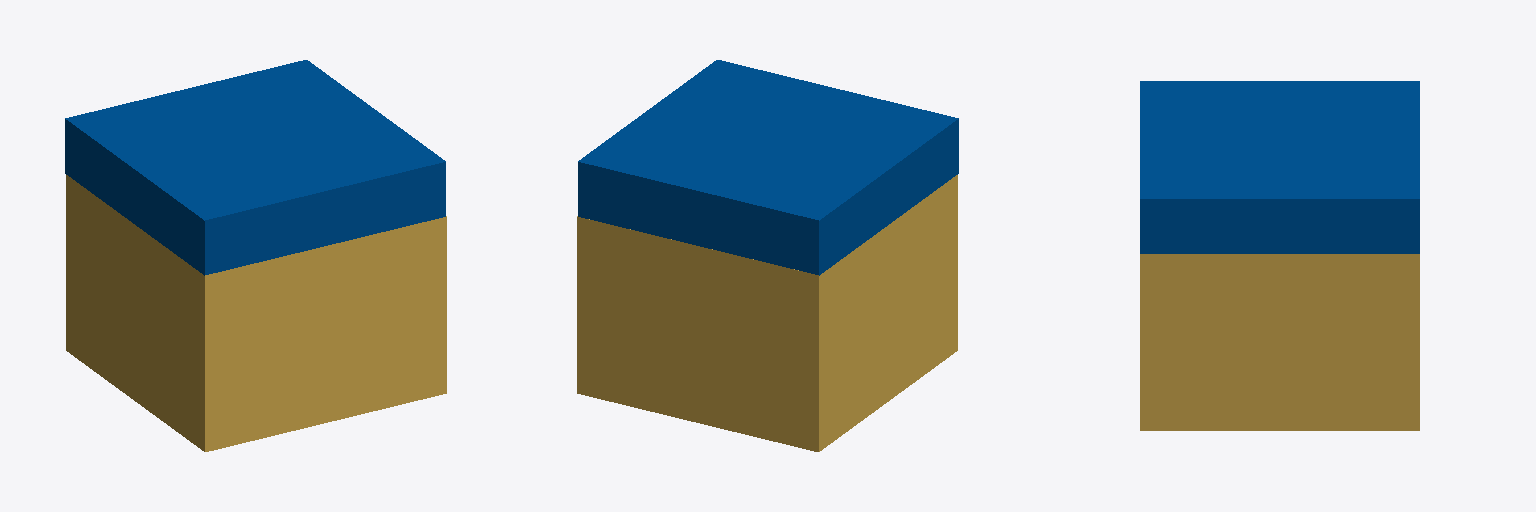
Rendered from water.065725eb.obj.
3 renders of one model, left to right at view 1: azimuth 30°, elevation 25°; view 2: azimuth 150°, elevation 25°; view 3: azimuth 270°, elevation 25°, orthographic.
Parts seen in each view (by area): view 1: Water_Cube.002; view 2: Water_Cube.002; view 3: Water_Cube.002.
Boxes of the visible parts, <box> form: Water_Cube.002: <box>65,60,446,451</box>; Water_Cube.002: <box>577,60,958,451</box>; Water_Cube.002: <box>1140,81,1419,430</box>.
Size of the model in its own units: 2 by 1.83 by 2.